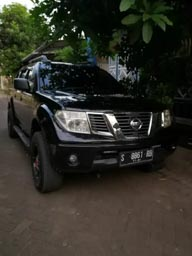plat: (117, 148, 153, 160)
